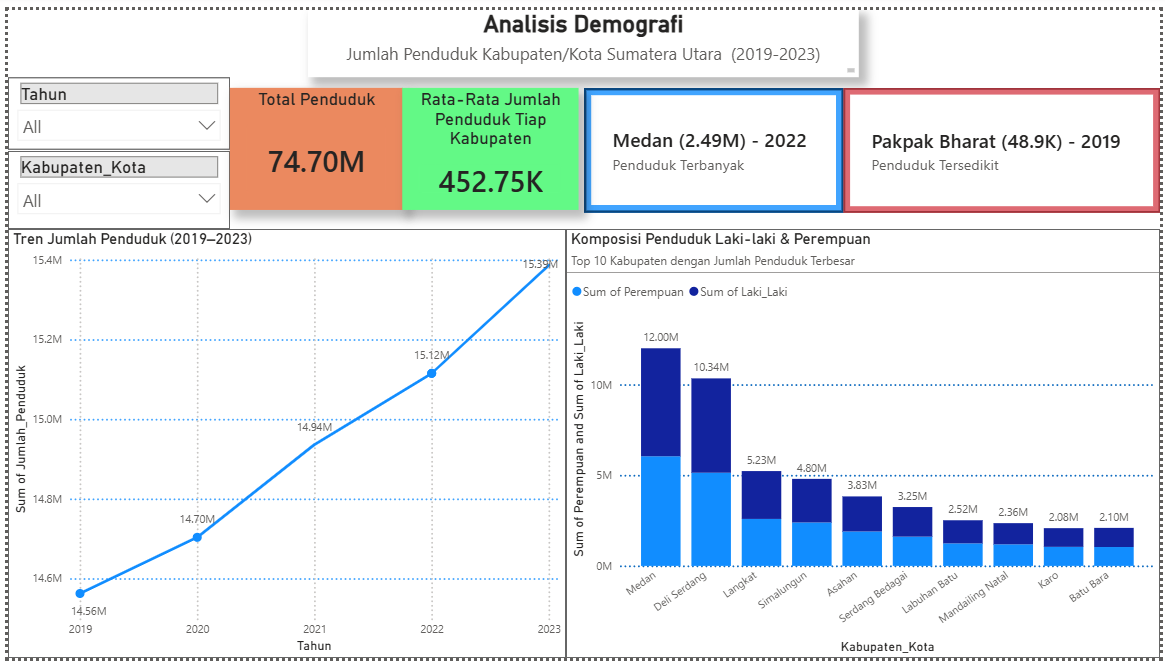

The page's visual inventory and layout, read from the dashboard file:
{"tool":"powerbi","page":{"name":"📊Analisis Demografi","canvas":[1280,720],"ordinal":2},"visuals":[{"type":"lineChart","title":"Tren Jumlah Penduduk (2019–2023)","fields":{"Category":["dim_tahun.Tahun"],"Y":["Sum(penduduk_master.Jumlah_Penduduk)"]},"box":[0,243.3,620,476.7],"z":0},{"type":"textbox","title":"Analisis Demografi","box":[334,0,612.1,74.5],"z":1000},{"type":"slicer","fields":{"Values":["dim_tahun.Tahun"]},"box":[0,75,246.7,80],"z":2000},{"type":"slicer","fields":{"Values":["dim_wilayah.Kabupaten_Kota"]},"box":[0,156.7,246.7,86.7],"z":3000},{"type":"cardVisual","title":"Total Penduduk","fields":{"Data":["Sum(penduduk_master.Jumlah_Penduduk)"]},"box":[246.7,86.7,191.7,135],"z":4000},{"type":"cardVisual","fields":{"Data":["Tables.Highest IPM Insight"]},"box":[640,86.7,288.3,138.3],"z":5000},{"type":"columnChart","title":"Komposisi Penduduk Laki-laki & Perempuan","fields":{"Category":["penduduk_master.Kabupaten_Kota"],"Y":["Sum(penduduk_master.Perempuan)","Sum(penduduk_master.Laki_Laki)"]},"box":[620,243.3,660,476.7],"z":6000},{"type":"cardVisual","fields":{"Data":["Tables.Penduduk Tersedikit"]},"box":[928.3,86.7,351.7,138.3],"z":7000},{"type":"cardVisual","title":"Rata-Rata Jumlah Penduduk Tiap Kabupaten","fields":{"Data":["Tables.Average Population"]},"box":[438.3,86.7,195,135],"z":8000}]}

Visuals, with their boxes in screenshot pixels (x1, y1, x2, y2), scaled from the page's 1280x720 canvas onto the 1165x663 screenshot:
"Tren Jumlah Penduduk (2019–2023)" lineChart: {"x1": 0, "y1": 224, "x2": 564, "y2": 662}
"Analisis Demografi" textbox: {"x1": 304, "y1": 0, "x2": 861, "y2": 69}
slicer - dim_tahun.Tahun: {"x1": 0, "y1": 69, "x2": 225, "y2": 143}
slicer - dim_wilayah.Kabupaten_Kota: {"x1": 0, "y1": 144, "x2": 225, "y2": 224}
"Total Penduduk" cardVisual: {"x1": 225, "y1": 80, "x2": 399, "y2": 204}
cardVisual - Tables.Highest IPM Insight: {"x1": 582, "y1": 80, "x2": 845, "y2": 207}
"Komposisi Penduduk Laki-laki & Perempuan" columnChart: {"x1": 564, "y1": 224, "x2": 1164, "y2": 662}
cardVisual - Tables.Penduduk Tersedikit: {"x1": 845, "y1": 80, "x2": 1164, "y2": 207}
"Rata-Rata Jumlah Penduduk Tiap Kabupaten" cardVisual: {"x1": 399, "y1": 80, "x2": 576, "y2": 204}
